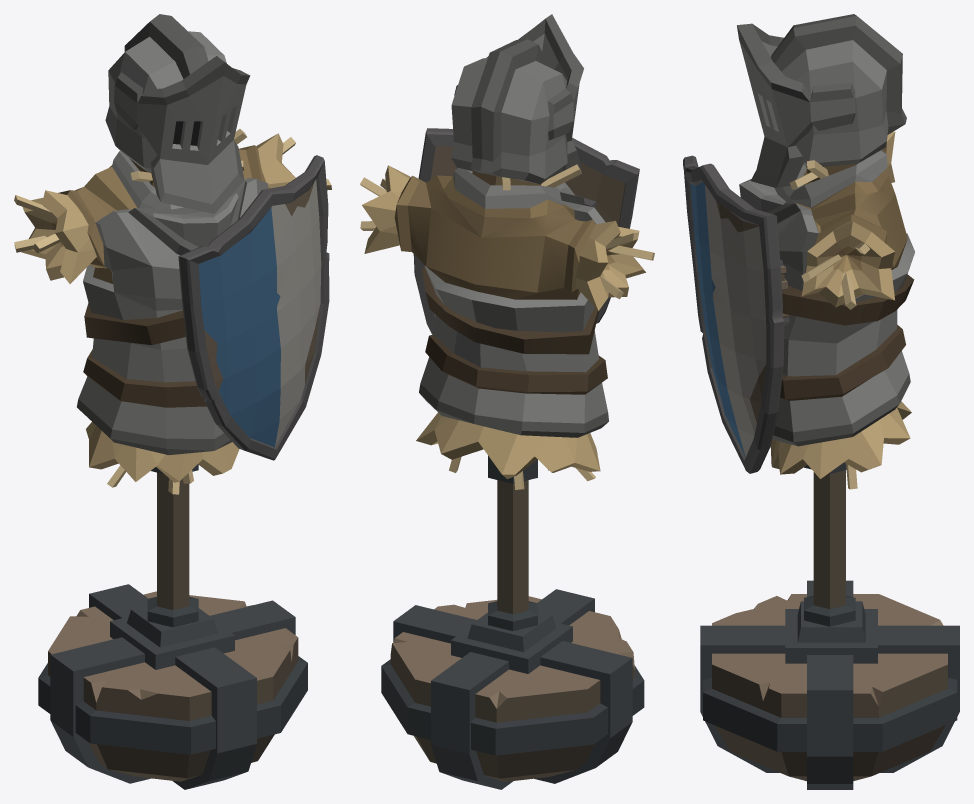
Rendered from castle_dummy.gltf.
The picture shows the model from 3 angles, left to right: view 1: azimuth 30°, elevation 25°; view 2: azimuth 150°, elevation 25°; view 3: azimuth 270°, elevation 25°; orthographic projection. The views are drawn at different scales.
Parts seen in each view (by area): view 1: castle_dummy; view 2: castle_dummy; view 3: castle_dummy.
Boxes of the visible parts, <box> form: castle_dummy: <box>14,14,331,789</box>; castle_dummy: <box>360,14,654,789</box>; castle_dummy: <box>683,14,959,789</box>.
Size of the model in its own units: 0.7293 by 1.78 by 0.5985.
Materials: 1 (1 with a texture image).
